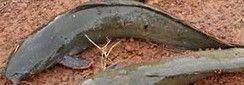Mudfish: (5, 2, 237, 81)
